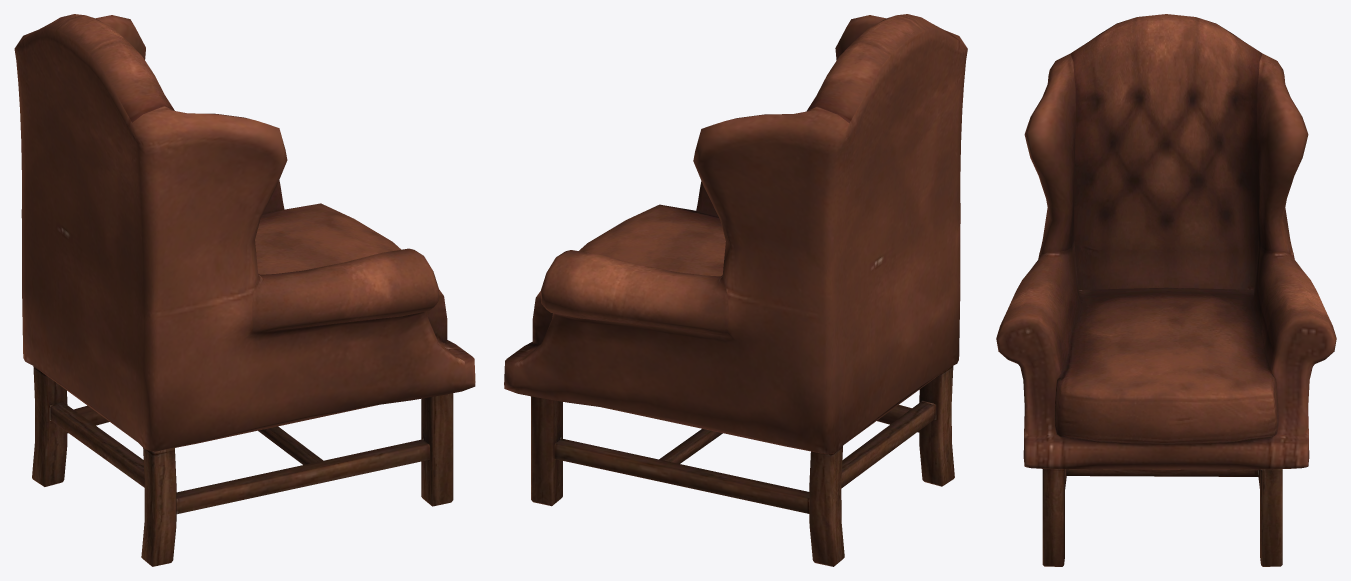
File: chair.fbx
3 renders of one model, left to right at view 1: azimuth 30°, elevation 25°; view 2: azimuth 150°, elevation 25°; view 3: azimuth 270°, elevation 25°, orthographic. The views are drawn at different scales.
Visible parts, largest first — view 1: armchair.mdl/armchair.smd; view 2: armchair.mdl/armchair.smd; view 3: armchair.mdl/armchair.smd.
Boxes of the visible parts, x1,y1,x2,y2 form: armchair.mdl/armchair.smd: (14, 14, 475, 566); armchair.mdl/armchair.smd: (504, 14, 967, 566); armchair.mdl/armchair.smd: (996, 14, 1336, 566).
Bounding box in the file's own units: 0.9491 × 0.99 × 1.37.
